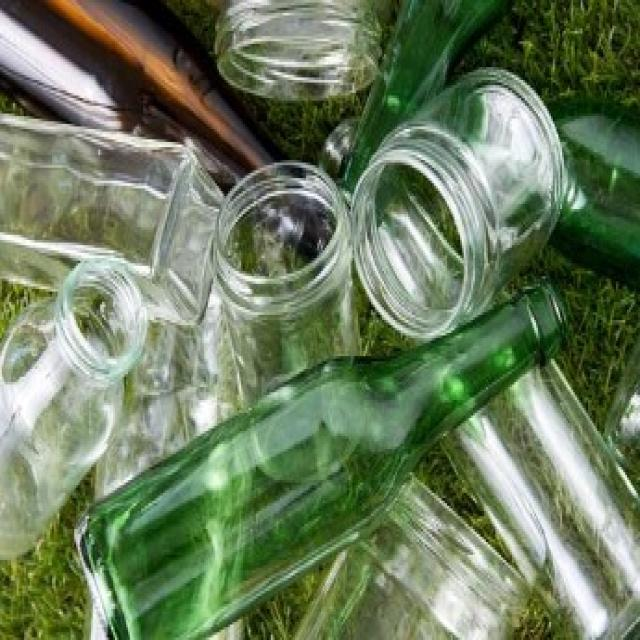electronic: (78, 269, 576, 640)
